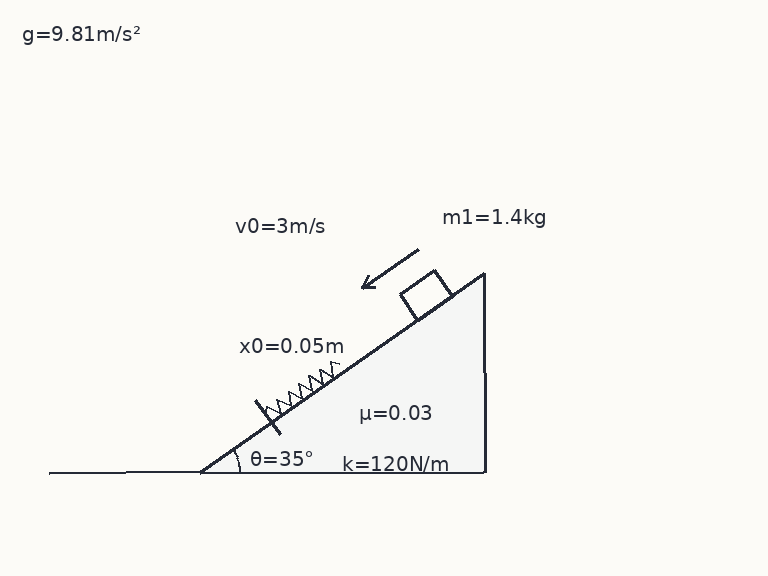block: (398, 269, 454, 322)
ramp: (198, 271, 486, 474)
spring: (264, 359, 342, 417)
